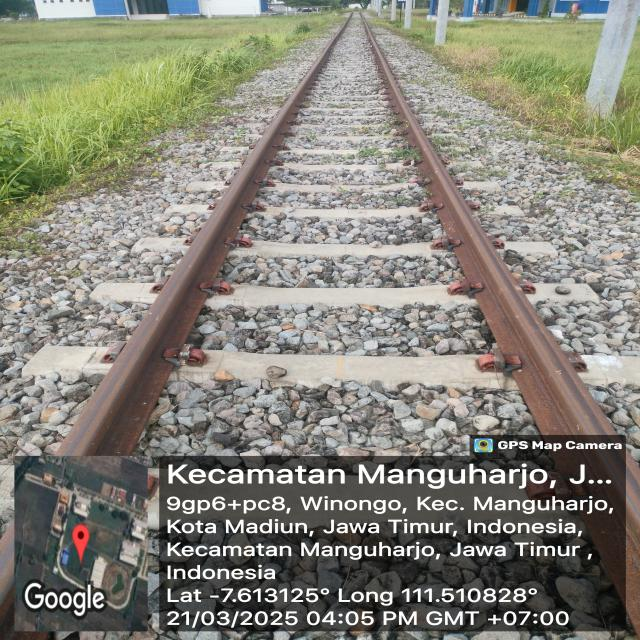rail-detection: (365, 23, 640, 600), (60, 20, 349, 455)
